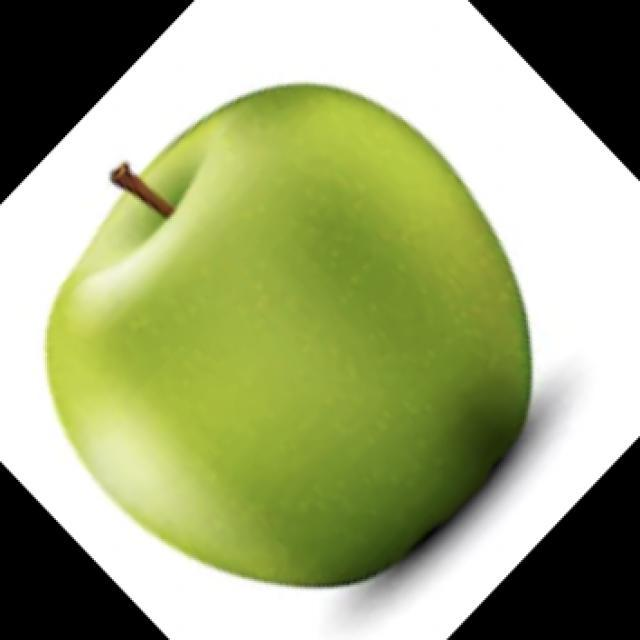Fresh Apple: (45, 80, 528, 595)
